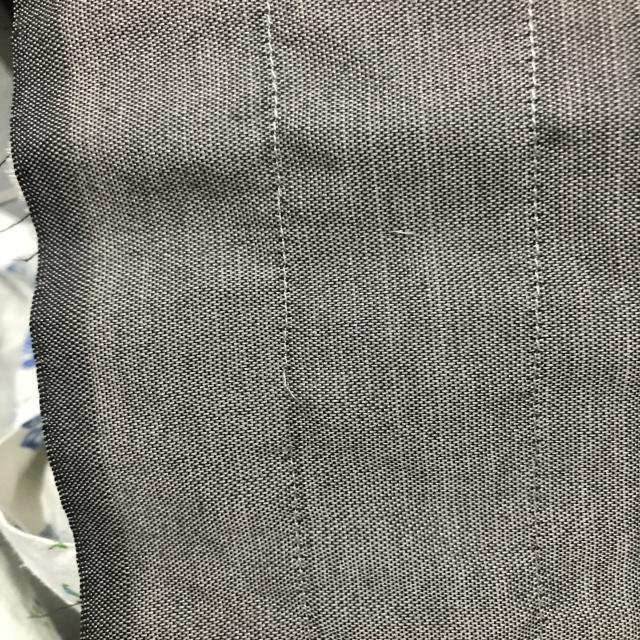broken: (256, 351, 322, 472)
good: (260, 200, 310, 324)
